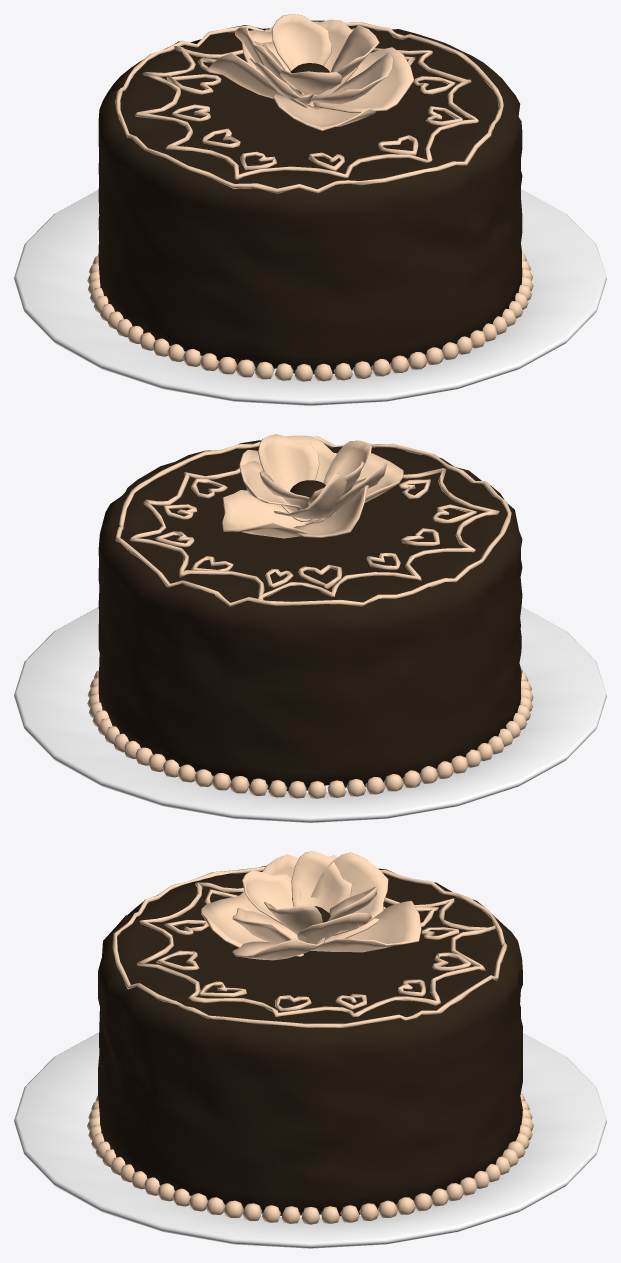
3 renders of one model, top to bottom at view 1: azimuth 30°, elevation 25°; view 2: azimuth 150°, elevation 25°; view 3: azimuth 270°, elevation 25°, orthographic.
Visible parts, largest first — view 1: Cake_0; view 2: Cake_0; view 3: Cake_0.
Boxes of the visible parts, x1=… form: Cake_0: x1=14, y1=14, x2=606, y2=405; Cake_0: x1=14, y1=434, x2=606, y2=822; Cake_0: x1=14, y1=851, x2=606, y2=1248.
Size of the model in its own units: 63.7 by 32.21 by 63.7.
Materials: 1 (1 with a texture image).
